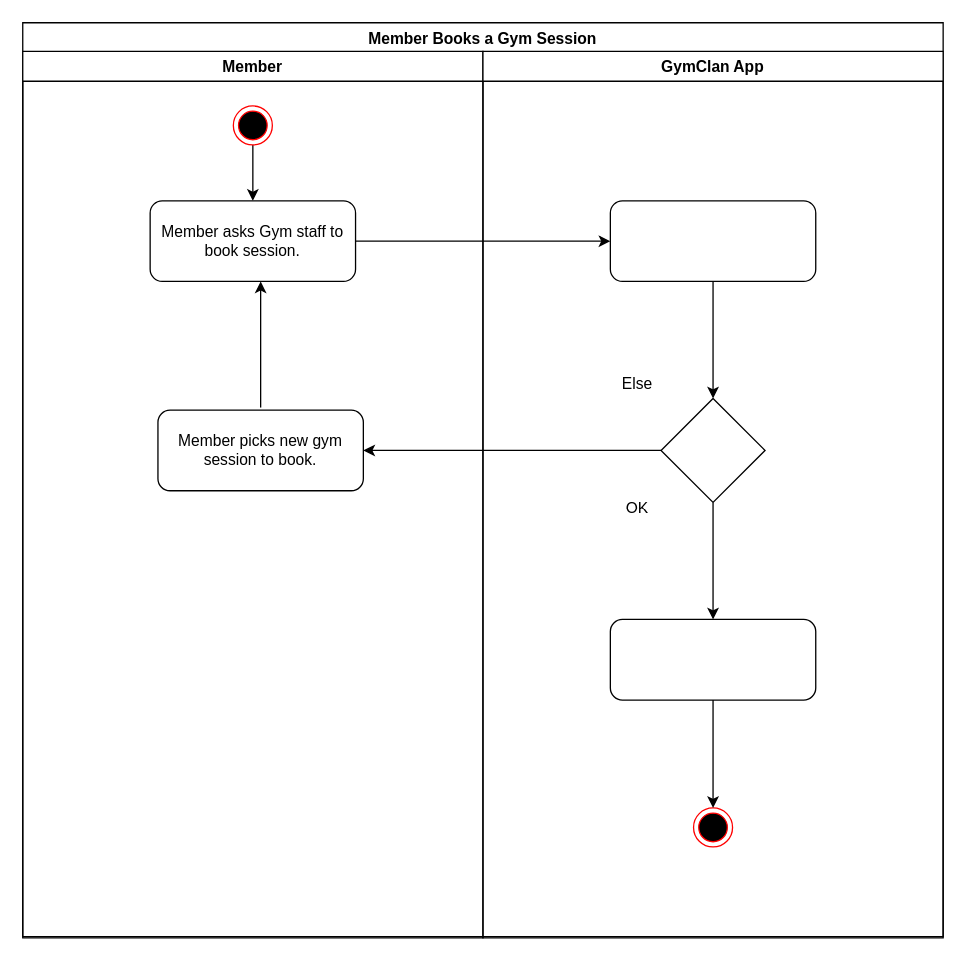
Some shapes in this 966 by 961 pixel diagram are drawn without their labels. Here are the shapes that lost their labels. From the top down, the centre of each, then its label:
At pixel 712 240: "Gym checks for capacity on session.".
At pixel 712 659: "Booking Made".
